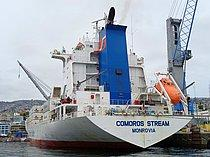Ship: (25, 5, 197, 153)
